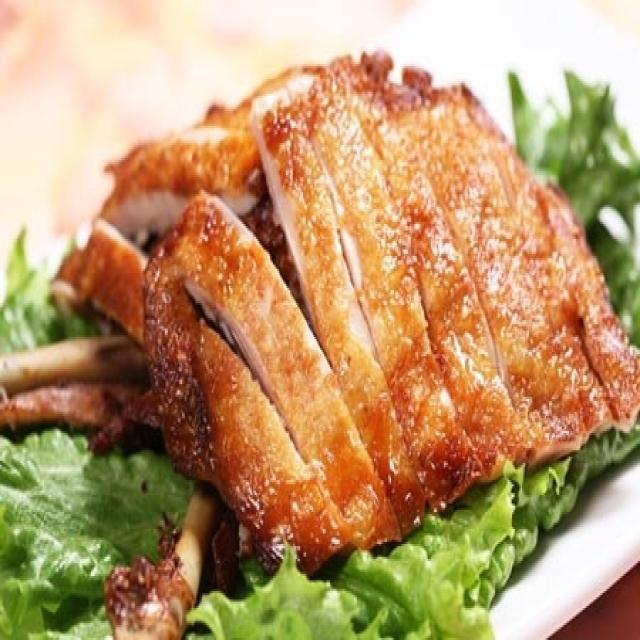烧串烤肉: (20, 43, 627, 582)
